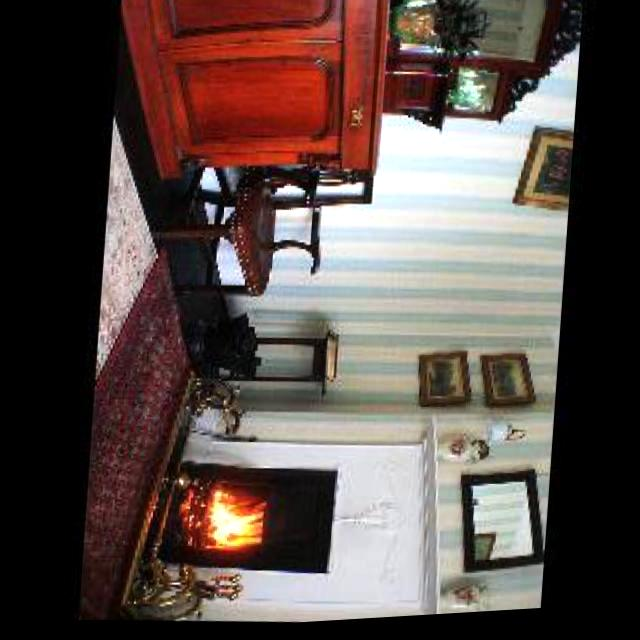fire: (186, 477, 274, 563)
